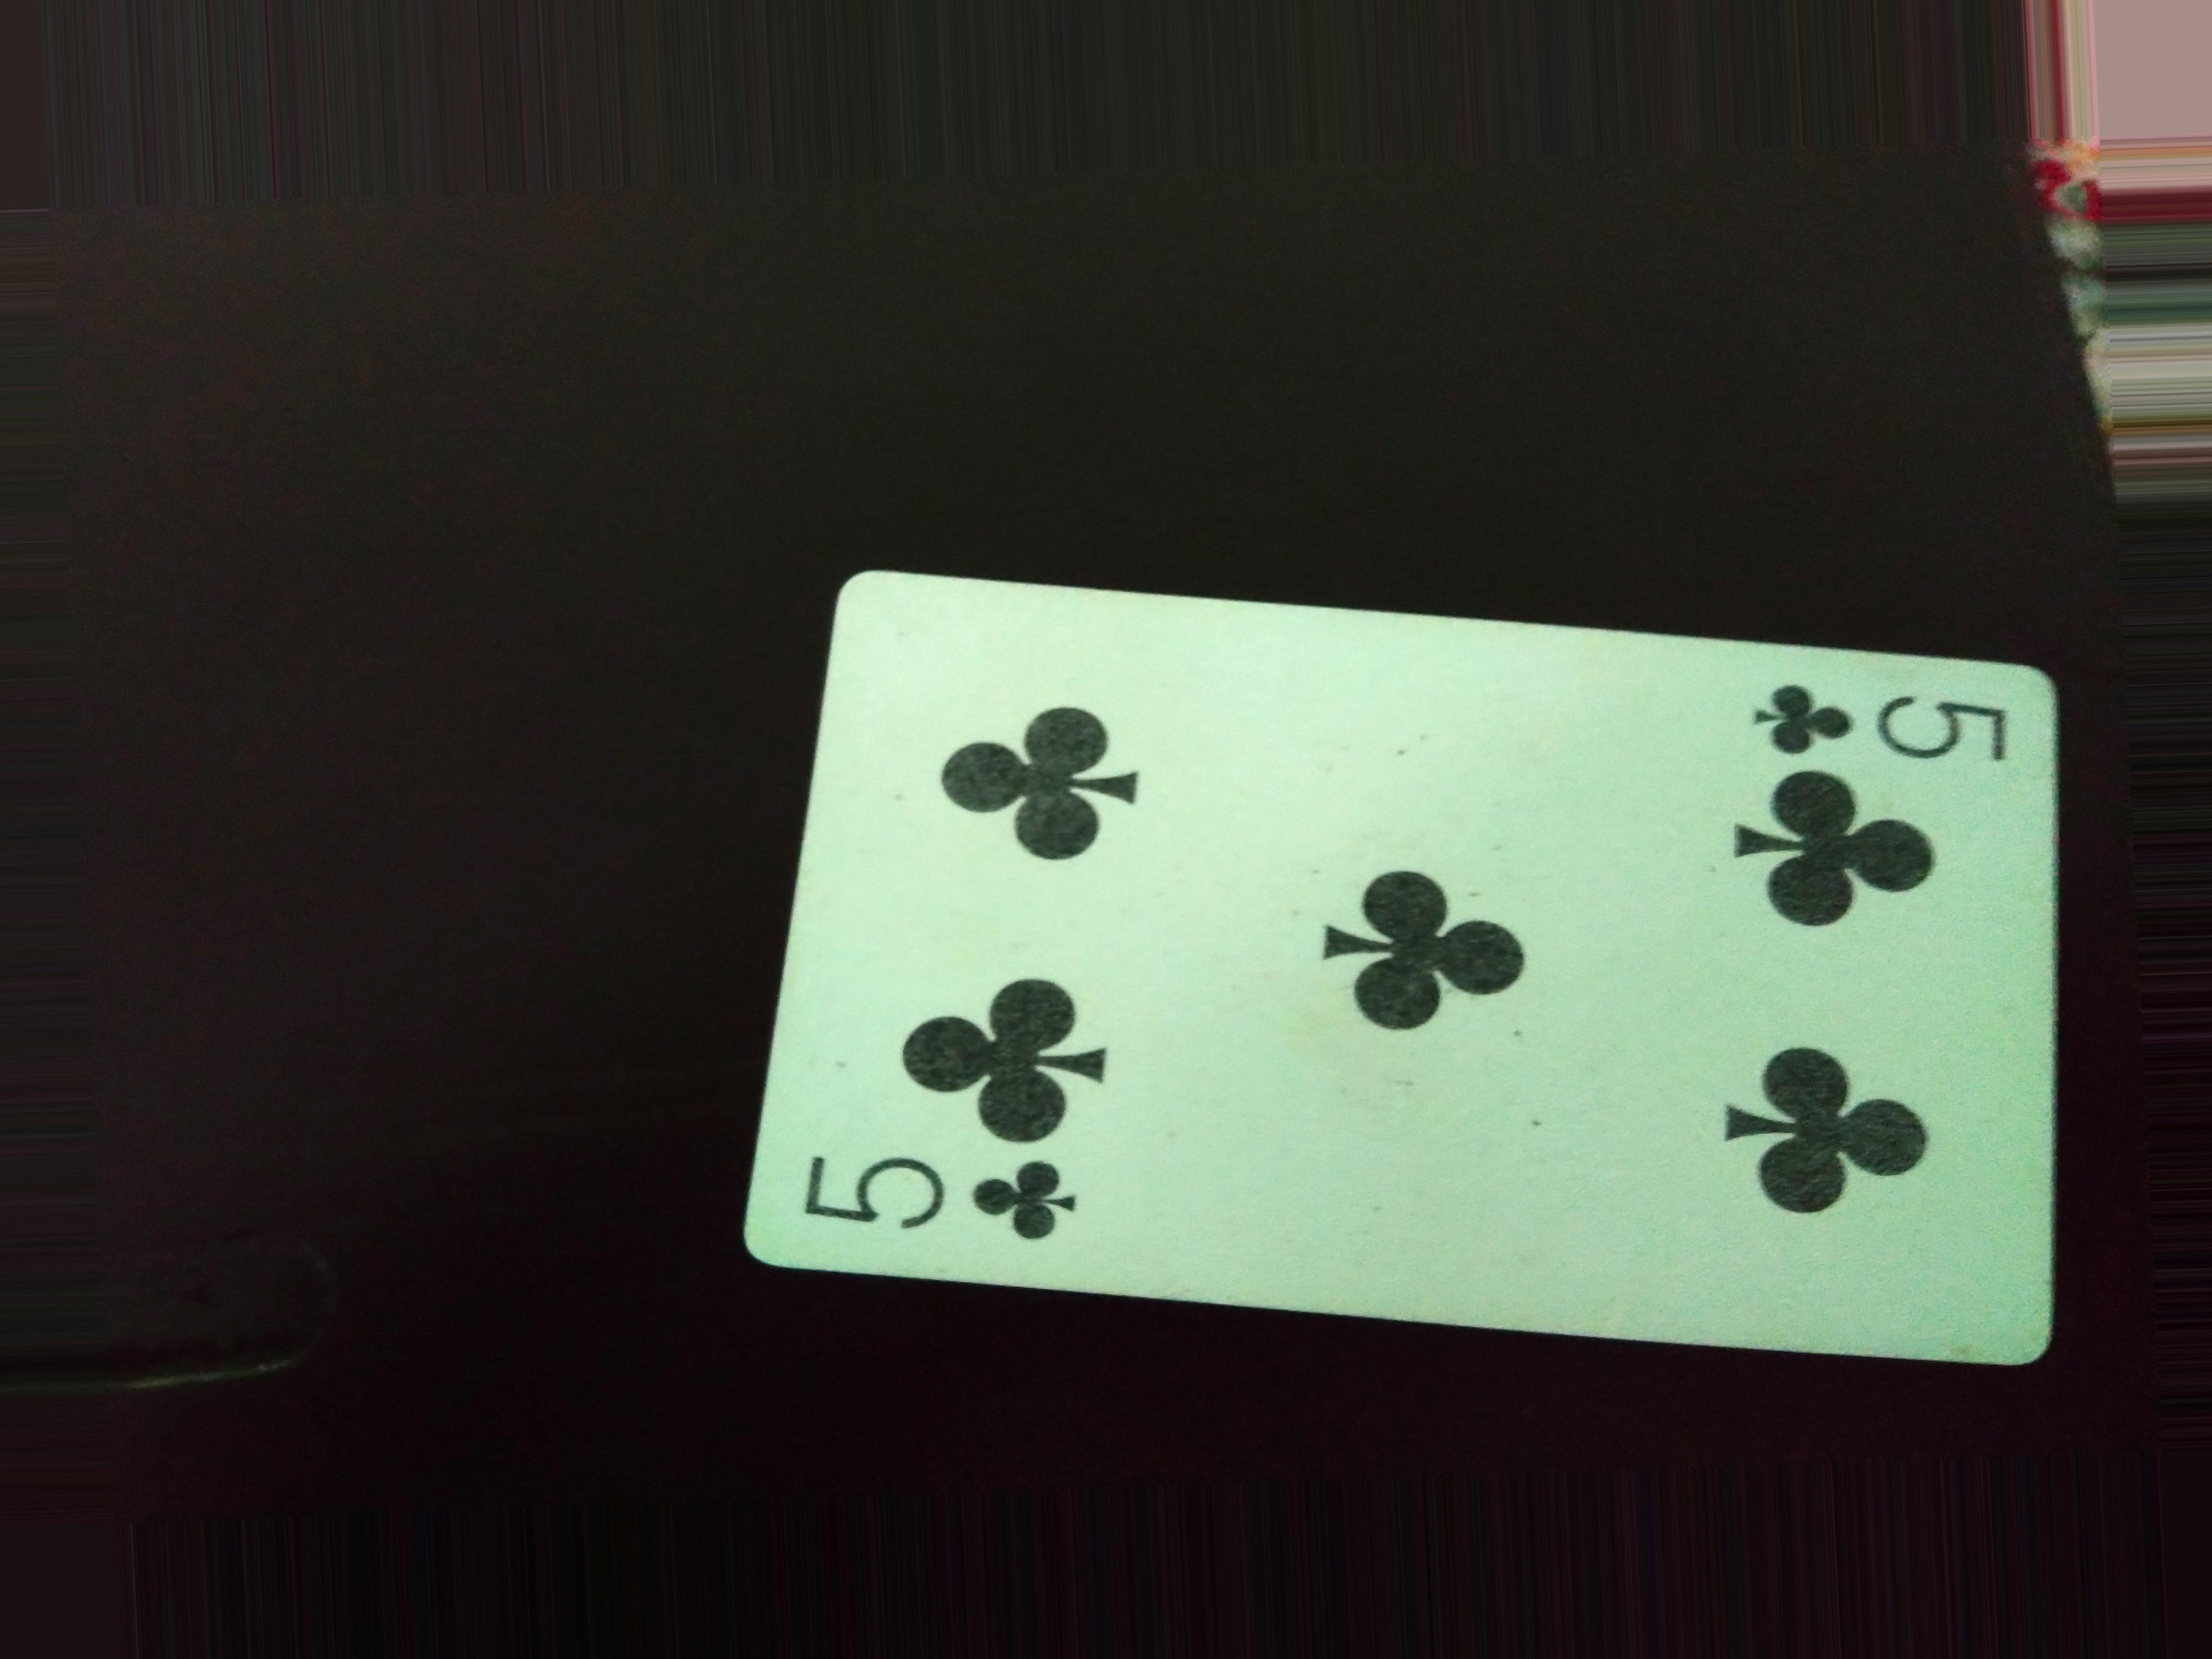5C: (782, 1134, 1101, 1267)
